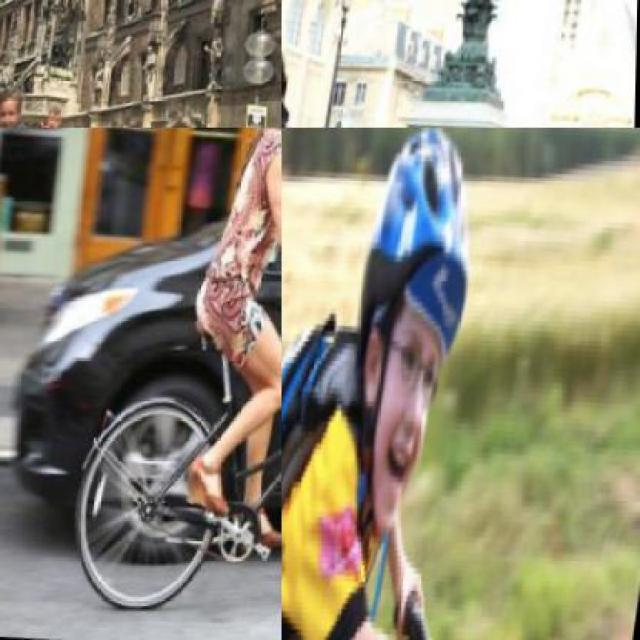With Helmet: (323, 127, 494, 558)
Without Helmet: (0, 89, 31, 126)
